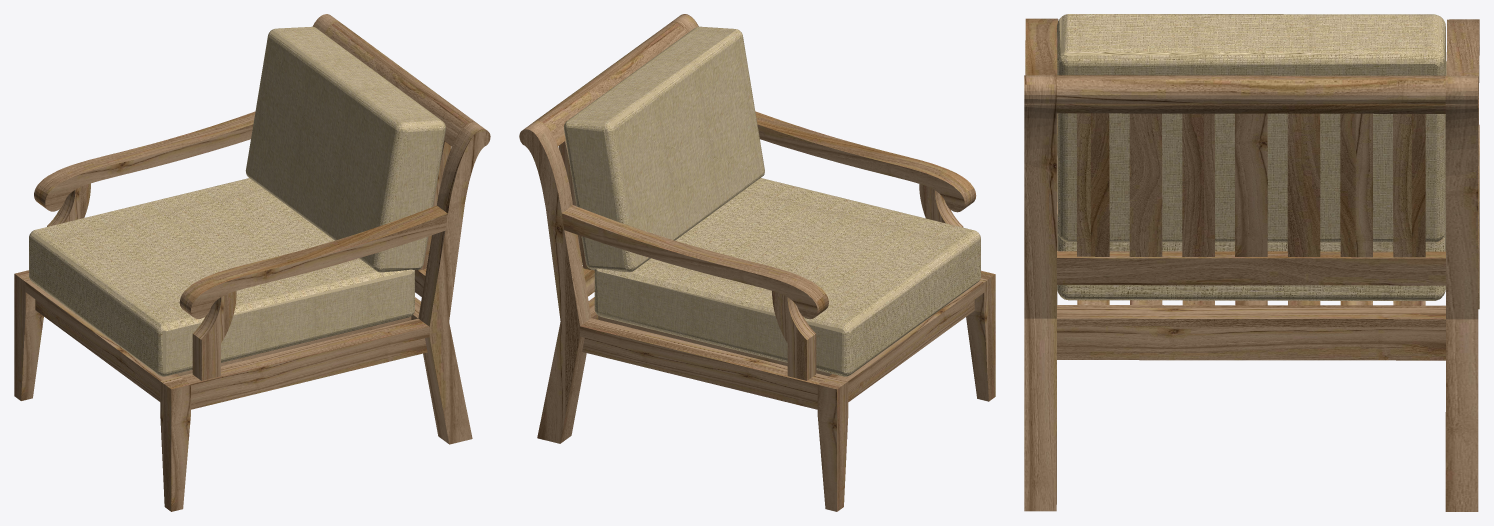
File: Chair.glb
3 renders of one model, left to right at view 1: azimuth 30°, elevation 25°; view 2: azimuth 150°, elevation 25°; view 3: azimuth 270°, elevation 25°, orthographic. The views are drawn at different scales.
Visible parts, largest first — view 1: Chair; view 2: Chair; view 3: Chair.
Part boxes in pixels (bbox=[...]): Chair: bbox=[14, 14, 490, 511]; Chair: bbox=[519, 14, 995, 511]; Chair: bbox=[1024, 14, 1479, 511].
Bounding box in the file's own units: 0.9579 × 0.9132 × 0.8226.
2 materials, 2 textured.
